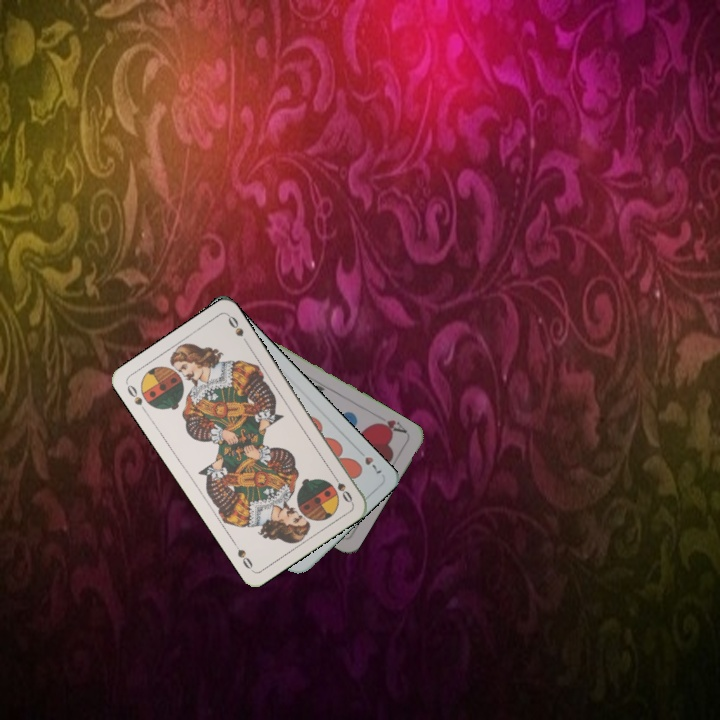H7: (353, 445, 385, 476)
HA: (371, 415, 410, 436)
SO: (122, 380, 150, 416), (328, 469, 355, 505)
